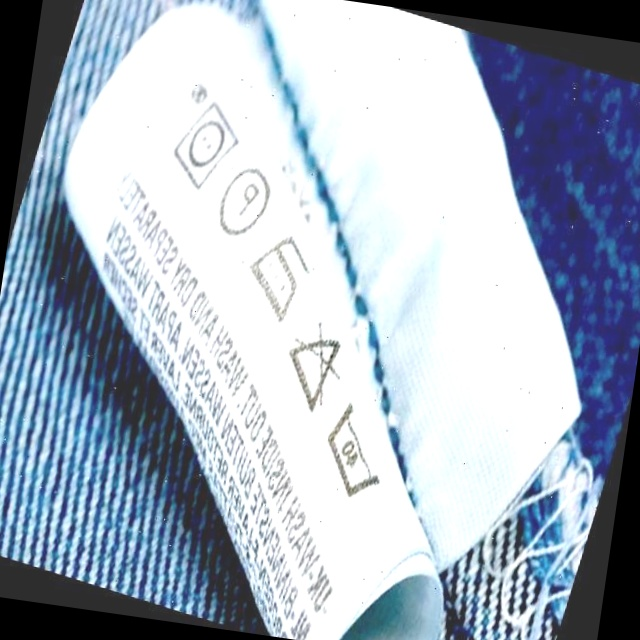40C: (314, 399, 391, 502)
DN_bleach: (277, 322, 344, 415)
dry_clean_any_solvent_except_trichloroethylene: (215, 163, 274, 240)
iron_high: (239, 227, 316, 320)
tumble_dry_medium: (166, 97, 245, 192)
